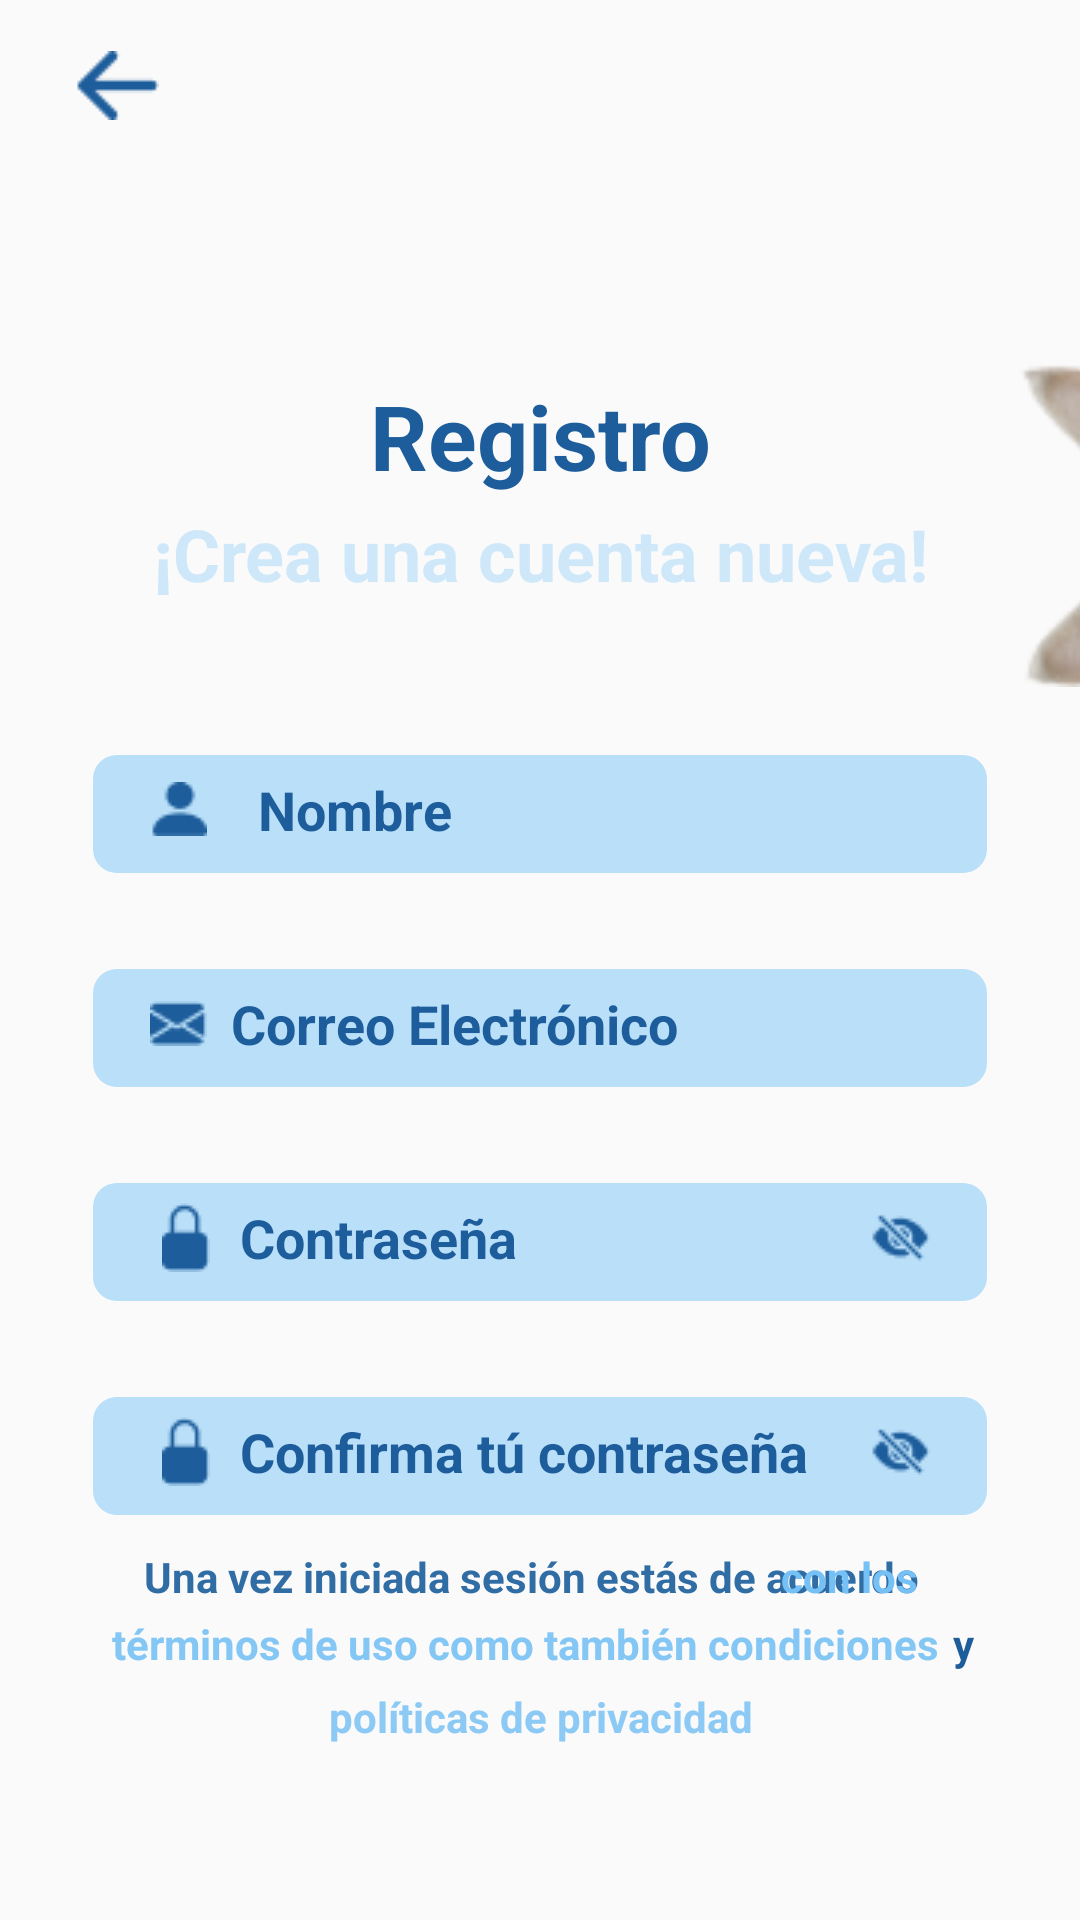

Named icons in this screenshot (1080x1920) and their centers, point (x, y):
flecha regreso: point (118, 85)
